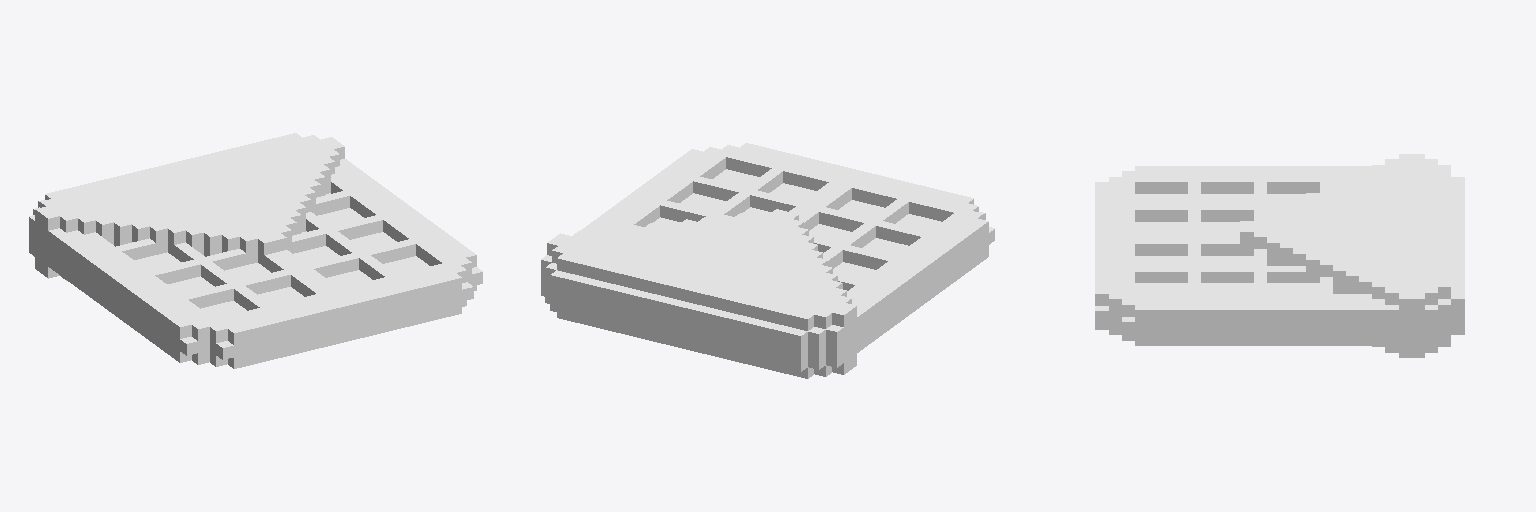
The model's file is foodbag.obj.
The picture shows the model from 3 angles: view 1: azimuth 30°, elevation 25°; view 2: azimuth 150°, elevation 25°; view 3: azimuth 270°, elevation 25°; orthographic projection.
Visible parts, largest first — view 1: foodbag; view 2: foodbag; view 3: foodbag.
Part boxes in pixels (x1,y1,x2,y2): foodbag: (29, 133, 482, 368); foodbag: (541, 143, 994, 378); foodbag: (1095, 154, 1464, 357).
Bounding box in the file's own units: 26 × 5 × 28.